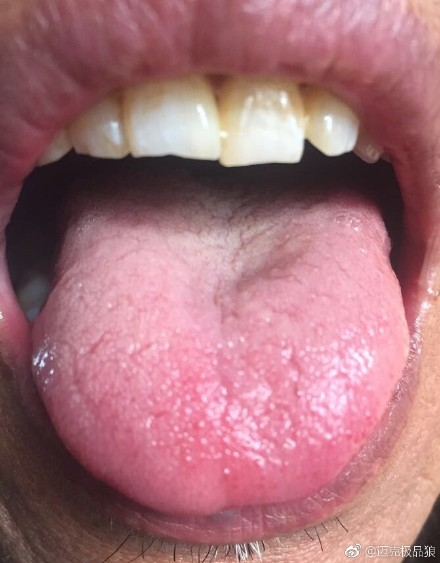baitaishe: (33, 170, 410, 511)
hongshe: (33, 170, 410, 511)
